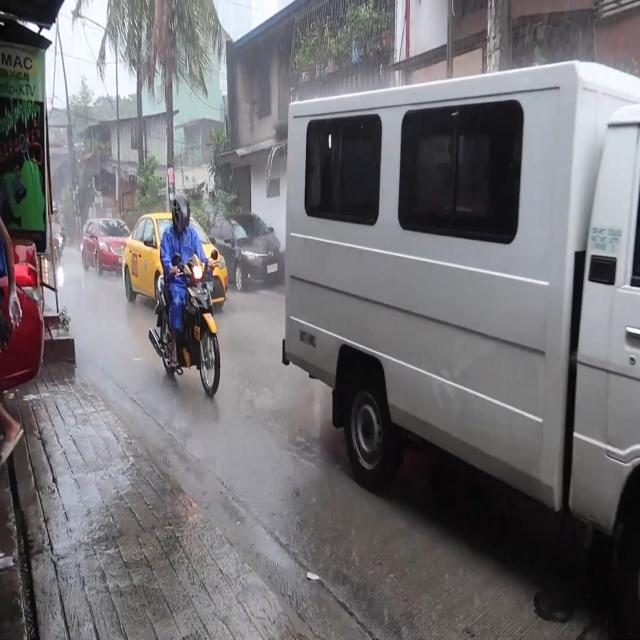half: (170, 188, 192, 236)
